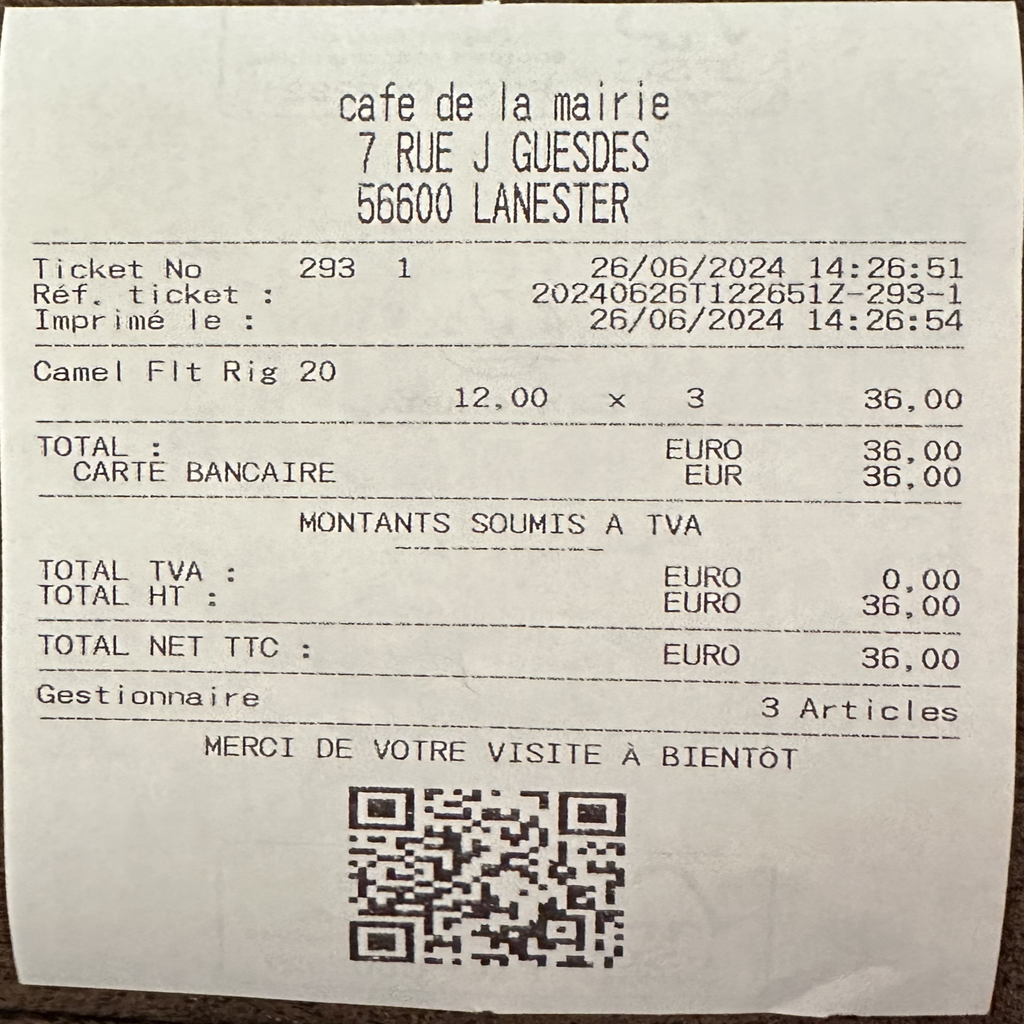recipt: (0, 6, 1018, 1016)
